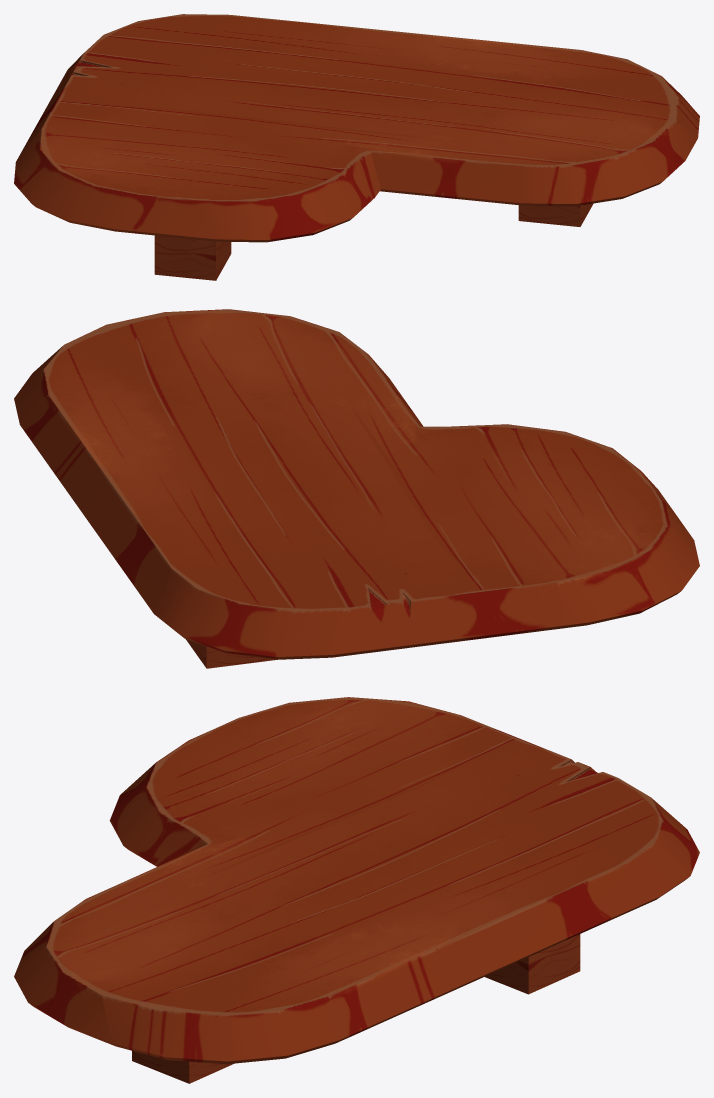
Rendered from MesaSUP2.obj.
The picture shows the model from 3 angles, top to bottom: view 1: azimuth 30°, elevation 25°; view 2: azimuth 150°, elevation 25°; view 3: azimuth 270°, elevation 25°; orthographic projection. The views are drawn at different scales.
Visible parts, largest first — view 1: MesaA_pCube6; view 2: MesaA_pCube6; view 3: MesaA_pCube6.
Boxes of the visible parts, box(x1,y1,x2,y2) form: MesaA_pCube6: box(14, 14, 699, 280); MesaA_pCube6: box(14, 309, 699, 668); MesaA_pCube6: box(14, 697, 699, 1083).
Size of the model in its own units: 2.18 by 0.3333 by 1.82.
Materials: 2 (2 with a texture image).
